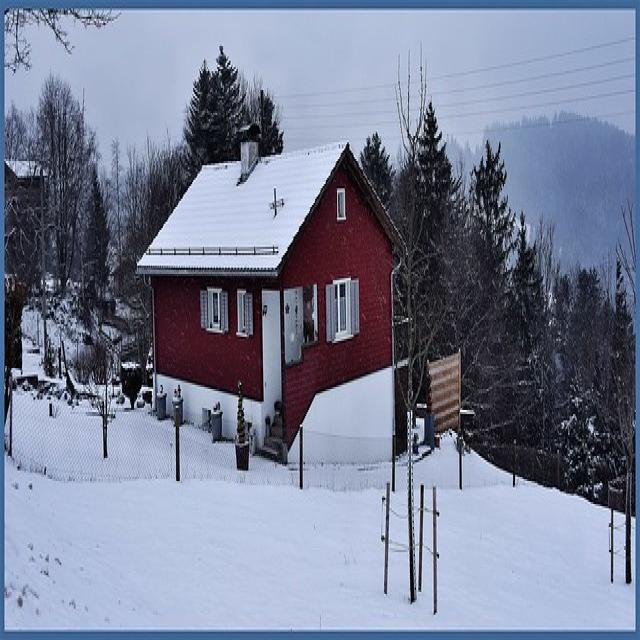building: (132, 137, 418, 472)
